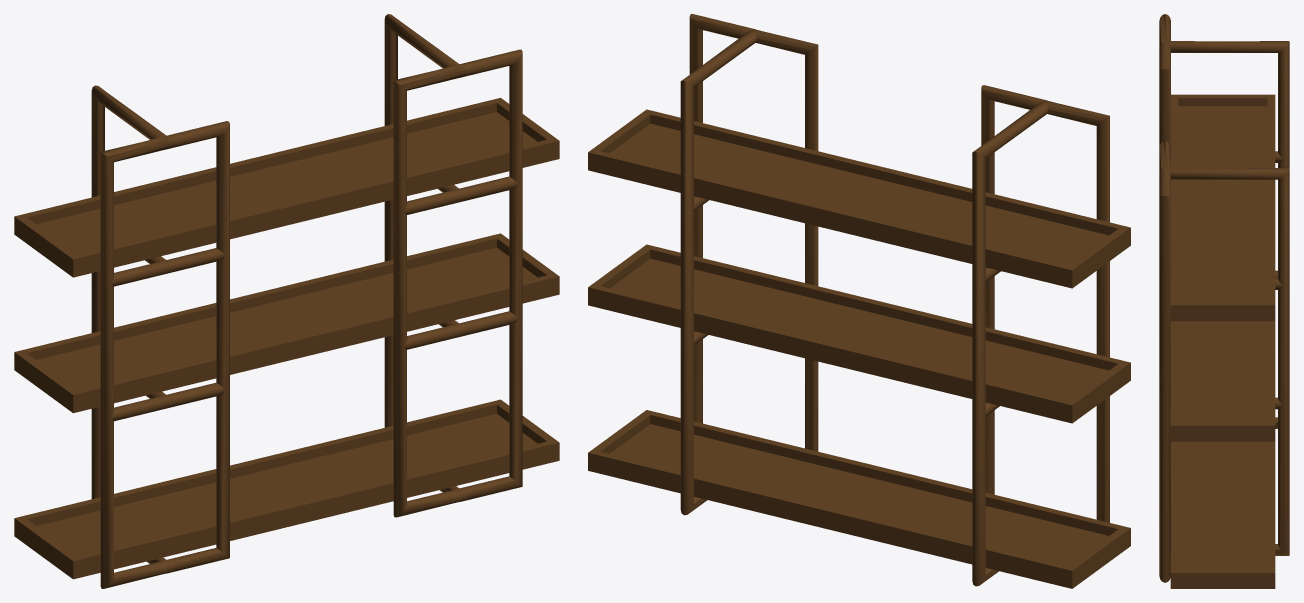
Rendered from Shelf.fbx.
The picture shows the model from 3 angles, left to right: view 1: azimuth 30°, elevation 25°; view 2: azimuth 150°, elevation 25°; view 3: azimuth 270°, elevation 25°; orthographic projection. The views are drawn at different scales.
Visible parts, largest first — view 1: Shelf; view 2: Shelf; view 3: Shelf.
Boxes of the visible parts, box(x1,y1,x2,y2) form: Shelf: box(14, 14, 559, 588); Shelf: box(588, 14, 1130, 588); Shelf: box(1159, 14, 1289, 588).
Size of the model in its own units: 35.54 by 30.47 by 9.31.
Materials: 1 (1 with a texture image).
